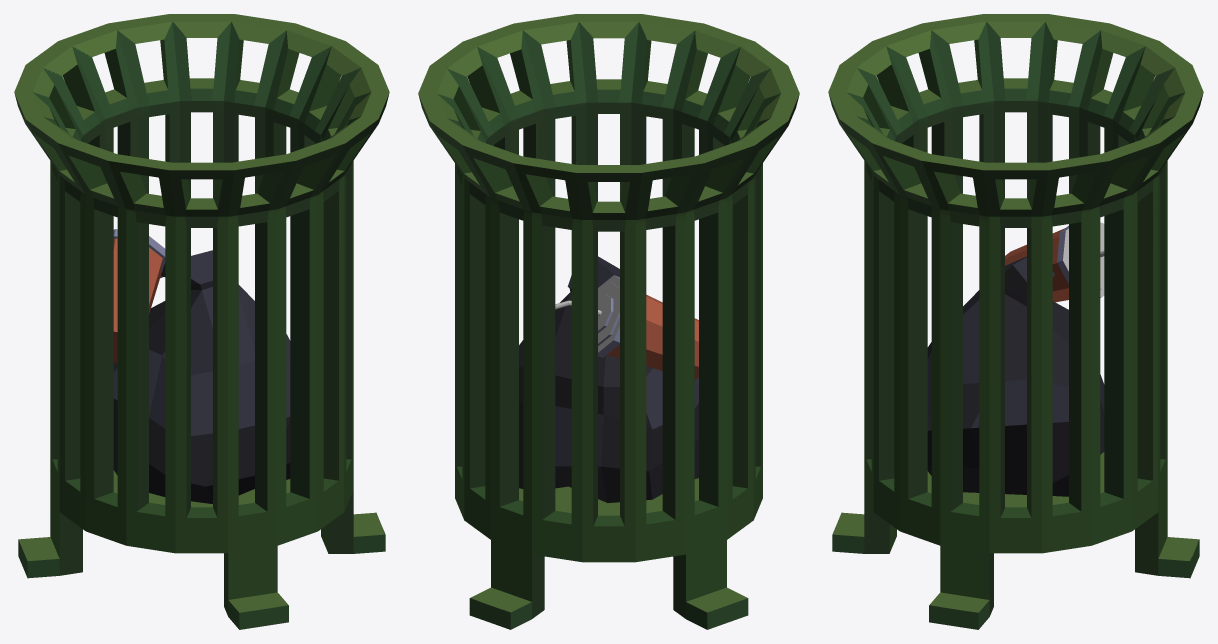
The model's file is Trashcan.fbx.
3 renders of one model, left to right at view 1: azimuth 30°, elevation 25°; view 2: azimuth 150°, elevation 25°; view 3: azimuth 270°, elevation 25°, orthographic.
Parts seen in each view (by area): view 1: Cylinder, Cube, 8 soda; view 2: Cylinder, Cube, 8 soda; view 3: Cylinder, Cube, 8 soda.
Part boxes in pixels (x1,y1,x2,y2): Cylinder: (14,14,389,629); Cube: (113,250,290,503); 8 soda: (113,229,165,363); Cylinder: (418,14,799,629); Cube: (519,256,698,502); 8 soda: (555,275,698,379); Cylinder: (828,14,1203,629); Cube: (927,256,1104,496); 8 soda: (1005,222,1104,302).
Size of the model in its own units: 103 by 142 by 104.
